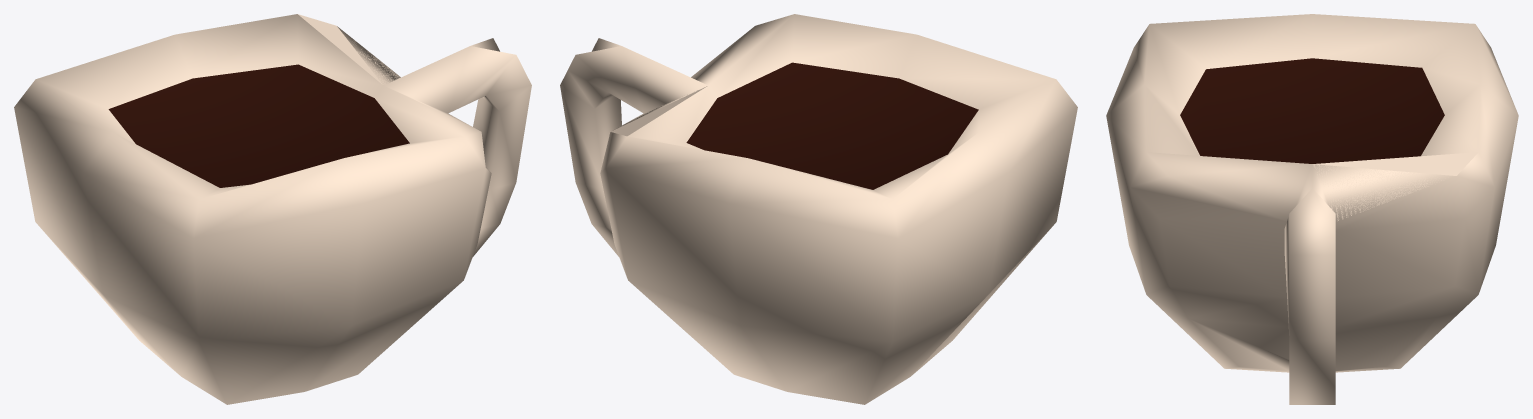
File: coffeecup.glb
The picture shows the model from 3 angles, left to right: view 1: azimuth 30°, elevation 25°; view 2: azimuth 150°, elevation 25°; view 3: azimuth 270°, elevation 25°; orthographic projection.
Parts seen in each view (by area): view 1: CoffeeMug; view 2: CoffeeMug; view 3: CoffeeMug.
Boxes of the visible parts, <box> form: CoffeeMug: <box>14,14,531,404</box>; CoffeeMug: <box>560,14,1077,404</box>; CoffeeMug: <box>1106,14,1518,404</box>.
Size of the model in its own units: 0.6321 by 0.3716 by 0.5197.
